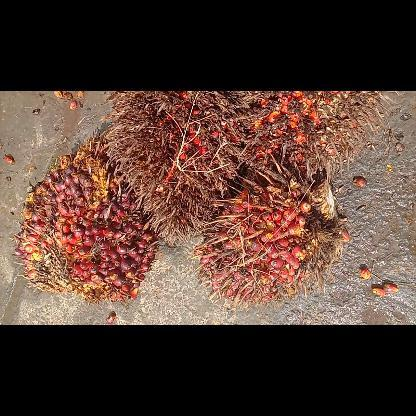TBS masak: (13, 132, 159, 304), (192, 158, 348, 308)
Terlalu masak: (98, 91, 245, 245), (240, 91, 394, 183)
